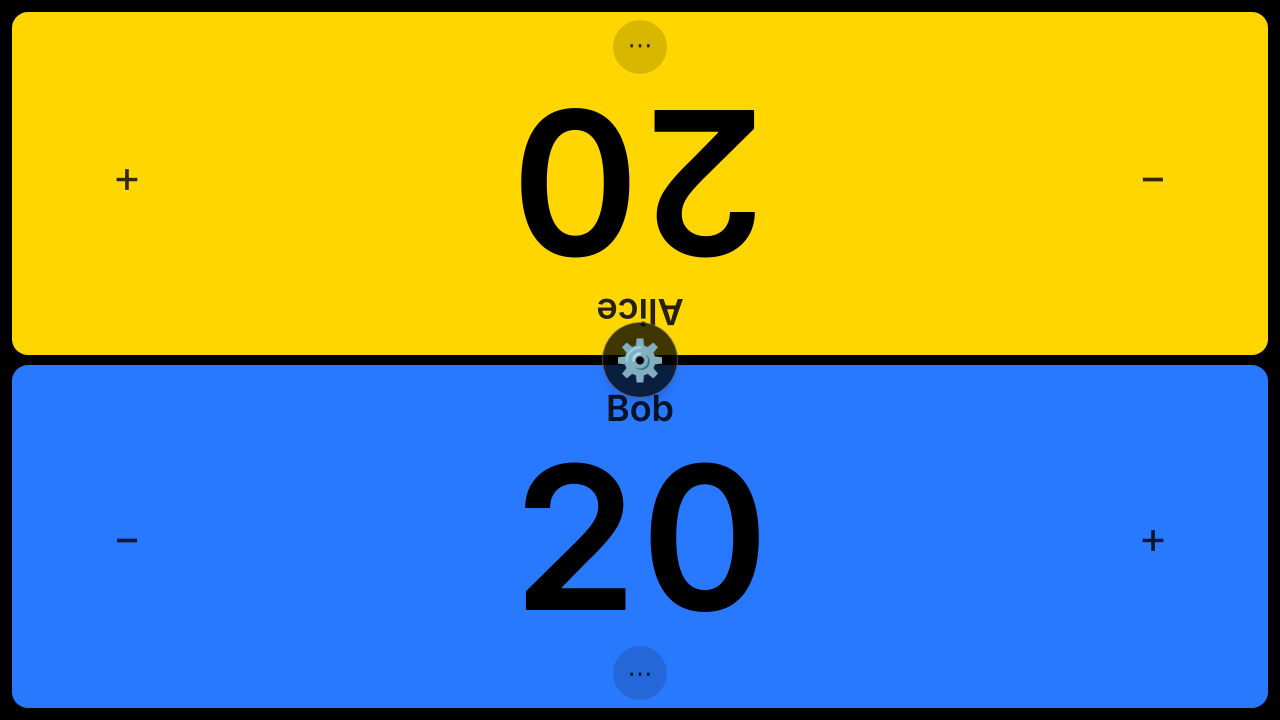
Test: LifeCounter › keeps the undo button disabled until something changes
What coordinates should you click on to do the following:
click the button named "Opzioni di gioco"
I would click on:
 (640, 360)
Its box is x1=602 y1=322 x2=678 y2=398.
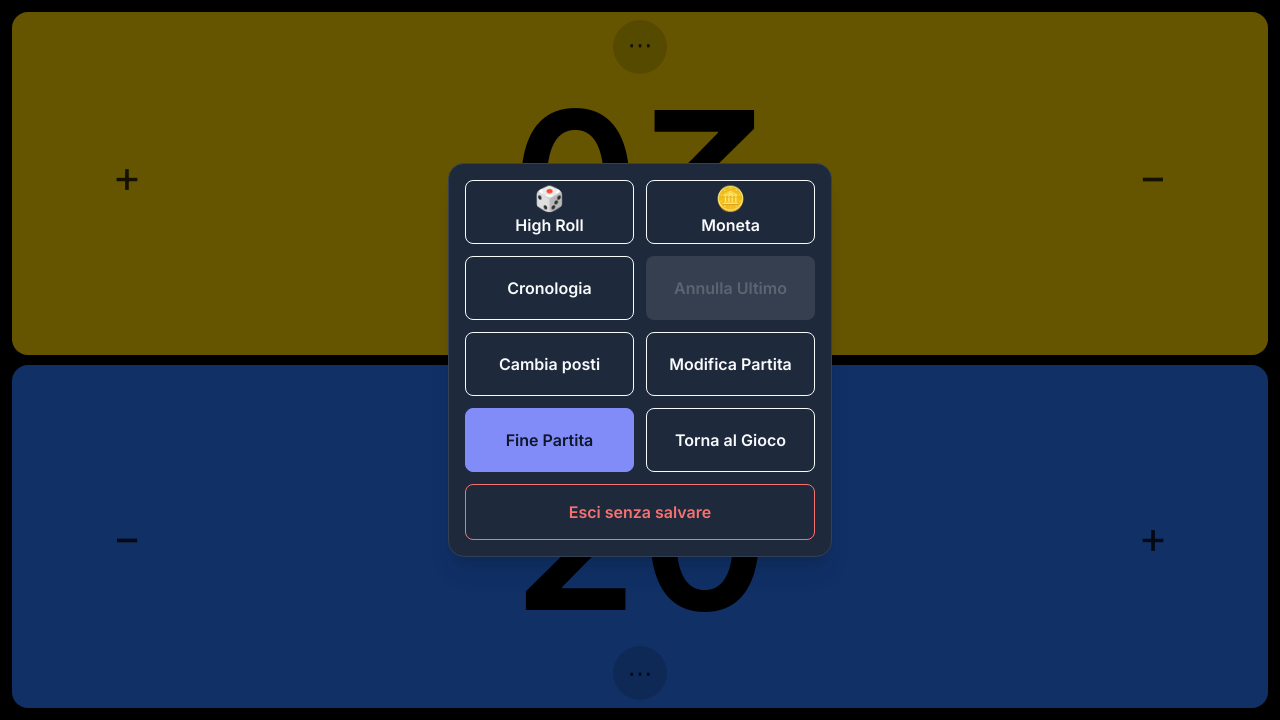
Expected: the button "Annulla Ultimo" is disabled, x1=646 y1=256 x2=815 y2=320
